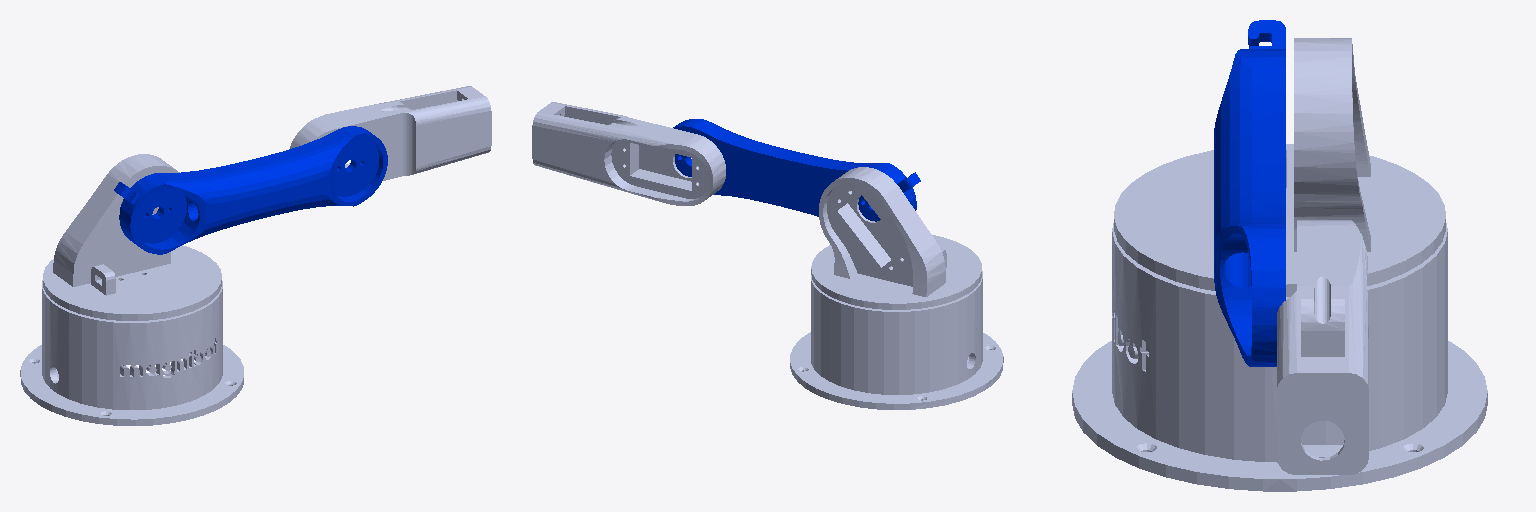
The robot description file, URDF, robot "Robotic_Arm_without_end_effector":
<?xml version="1.0" encoding="utf-8" ?>
<!-- This URDF was automatically created by SolidWorks to URDF Exporter! Originally created by [author] ([email redacted]) 
     Commit Version: 1.6.0-4-g7f85cfe  Build Version: 1.6.7995.38578
     For more information, please see http://wiki.ros.org/sw_urdf_exporter -->
<robot name="Robotic_Arm_without_end_effector">
    <link name="world" />
    <joint name="base_joint" type="fixed">
        <parent link="world" />
        <child link="base_link" />
        <origin rpy="0 0 0" xyz="0.0 0.0 0.0" />
    </joint>
    <link name="base_link">
        <inertial>
            <origin xyz="-0.00012473 0.0004736 0.022246" rpy="0 0 0" />
            <mass value="0.094996" />
            <inertia ixx="0.00012598" ixy="-2.7794E-08" ixz="-3.9054E-06" iyy="0.00013728" iyz="-2.3927E-07" izz="0.00020566" />
        </inertial>
        <visual>
            <origin xyz="0 0 0" rpy="0 0 0" />
            <geometry>
                <mesh filename="package://Robotic_Arm_without_end_effector/meshes/base_link.STL" />
            </geometry>
            <material name="">
                <color rgba="0.79216 0.81961 0.93333 1" />
            </material>
        </visual>
        <collision>
            <origin xyz="0 0 0" rpy="0 0 0" />
            <geometry>
                <mesh filename="package://Robotic_Arm_without_end_effector/meshes/base_link.STL" />
            </geometry>
        </collision>
    </link>
    <link name="link_1">
        <inertial>
            <origin xyz="-0.0064346 0.017289 -0.001372" rpy="0 0 0" />
            <mass value="0.068038" />
            <inertia ixx="5.8133E-05" ixy="5.1777E-06" ixz="-6.4176E-07" iyy="5.4676E-05" iyz="6.2427E-06" izz="4.5018E-05" />
        </inertial>
        <visual>
            <origin xyz="0 0 0" rpy="0 0 0" />
            <geometry>
                <mesh filename="package://Robotic_Arm_without_end_effector/meshes/link_1.STL" />
            </geometry>
            <material name="">
                <color rgba="0.79216 0.81961 0.93333 1" />
            </material>
        </visual>
        <collision>
            <origin xyz="0 0 0" rpy="0 0 0" />
            <geometry>
                <mesh filename="package://Robotic_Arm_without_end_effector/meshes/link_1.STL" />
            </geometry>
        </collision>
    </link>
    <joint name="joint_1" type="revolute">
        <origin xyz="0 0 0.057" rpy="1.5708 0 -1.5708" />
        <parent link="base_link" />
        <child link="link_1" />
        <axis xyz="0 1 0" />
        <limit lower="0" upper="6.284" effort="300" velocity="3" />
    </joint>
    <link name="link_2">
        <inertial>
            <origin xyz="-0.00013011 0.05859 0.0059688" rpy="0 0 0" />
            <mass value="0.064393" />
            <inertia ixx="0.00010704" ixy="-1.6548E-09" ixz="2.3843E-10" iyy="9.11E-06" iyz="2.3961E-07" izz="0.00011184" />
        </inertial>
        <visual>
            <origin xyz="0 0 0" rpy="0 0 0" />
            <geometry>
                <mesh filename="package://Robotic_Arm_without_end_effector/meshes/link_2.STL" />
            </geometry>
            <material name="">
                <color rgba="0 0.2549 0.92157 1" />
            </material>
        </visual>
        <collision>
            <origin xyz="0 0 0" rpy="0 0 0" />
            <geometry>
                <mesh filename="package://Robotic_Arm_without_end_effector/meshes/link_2.STL" />
            </geometry>
        </collision>
    </link>
    <joint name="joint_2" type="revolute">
        <origin xyz="0 0.040453 -0.013742" rpy="-1.5708 0 -1.5708" />
        <parent link="link_1" />
        <child link="link_2" />
        <axis xyz="0 0 1" />
        <limit lower="0" upper="3.142" effort="200" velocity="3" />
    </joint>
    <link name="link_3">
        <inertial>
            <origin xyz="0.00027785 0.039285 0.012409" rpy="0 0 0" />
            <mass value="0.050268" />
            <inertia ixx="5.4601E-05" ixy="-6.9583E-08" ixz="-5.5033E-11" iyy="9.2868E-06" iyz="-2.8753E-07" izz="5.8149E-05" />
        </inertial>
        <visual>
            <origin xyz="0 0 0" rpy="0 0 0" />
            <geometry>
                <mesh filename="package://Robotic_Arm_without_end_effector/meshes/link_3.STL" />
            </geometry>
            <material name="">
                <color rgba="0.79216 0.81961 0.93333 1" />
            </material>
        </visual>
        <collision>
            <origin xyz="0 0 0" rpy="0 0 0" />
            <geometry>
                <mesh filename="package://Robotic_Arm_without_end_effector/meshes/link_3.STL" />
            </geometry>
        </collision>
    </link>
    <joint name="joint_3" type="revolute">
        <origin xyz="0 0.12 0" rpy="3.1416 0 3.1416" />
        <parent link="link_2" />
        <child link="link_3" />
        <axis xyz="0 0 -1" />
        <limit lower="-1.57" upper="1.57" effort="200" velocity="3" />
    </joint>
    <transmission name="link_1_trans">
        <type>transmission_interface/SimpleTransmission</type>
        <joint name="joint_1">
            <hardwareInterface>hardware_interface/PositionJointInterface</hardwareInterface>
        </joint>
        <actuator name="link_1_motor">
            <hardwareInterface>hardware_interface/PositionJointInterface</hardwareInterface>
            <mechanicalReduction>1</mechanicalReduction>
        </actuator>
    </transmission>
    <transmission name="link_2_trans">
        <type>transmission_interface/SimpleTransmission</type>
        <joint name="joint_2">
            <hardwareInterface>hardware_interface/PositionJointInterface</hardwareInterface>
        </joint>
        <actuator name="link_2_motor">
            <hardwareInterface>hardware_interface/PositionJointInterface</hardwareInterface>
            <mechanicalReduction>1</mechanicalReduction>
        </actuator>
    </transmission>
    <transmission name="link_3_trans">
        <type>transmission_interface/SimpleTransmission</type>
        <joint name="joint_3">
            <hardwareInterface>hardware_interface/PositionJointInterface</hardwareInterface>
        </joint>
        <actuator name="link_3_motor">
            <hardwareInterface>hardware_interface/PositionJointInterface</hardwareInterface>
            <mechanicalReduction>1</mechanicalReduction>
        </actuator>
    </transmission>
    <gazebo>
        <plugin name="control" filename="libgazebo_ros_control.so">
            <robotNamespace>/</robotNamespace>
        </plugin>
        <plugin name="gazebo_ros_control">
            <robotNamespace>/</robotNamespace>
        </plugin>
    </gazebo>
    <gazebo reference="link_1">
        <selfCollide>true</selfCollide>
    </gazebo>
    <gazebo reference="link_2">
        <selfCollide>true</selfCollide>
    </gazebo>
    <gazebo reference="link_3">
        <selfCollide>true</selfCollide>
    </gazebo>
</robot>

--- Facts derived from the render (not from the file) ---
Views: 3 orthographic renders of the robot side by side, from view 1: azimuth 30°, elevation 25°; view 2: azimuth 150°, elevation 25°; view 3: azimuth 270°, elevation 25°.
Model Robotic_Arm_without_end_effector with 5 links and 4 joints (3 revolute, 1 fixed), rooted at world, posed every joint at zero.
Links seen in each view (by area): view 1: base_link, link_2, link_1, link_3; view 2: base_link, link_1, link_3, link_2; view 3: base_link, link_1, link_2, link_3.
Link boxes in pixels (<box>): base_link: <box>20,280,243,425</box>; link_2: <box>114,126,387,254</box>; link_1: <box>43,154,221,320</box>; link_3: <box>290,86,491,180</box>; base_link: <box>790,271,1003,409</box>; link_1: <box>811,167,981,309</box>; link_3: <box>532,102,725,205</box>; link_2: <box>673,119,920,221</box>; base_link: <box>1072,223,1487,491</box>; link_1: <box>1114,38,1445,296</box>; link_2: <box>1214,20,1285,366</box>; link_3: <box>1277,220,1368,474</box>.
Size in the robot's own frame: 0.2841 by 0.1213 by 0.1218 metres.
Meshes: 4 distinct files referenced, 4 mesh visuals loaded (4 binary STL).